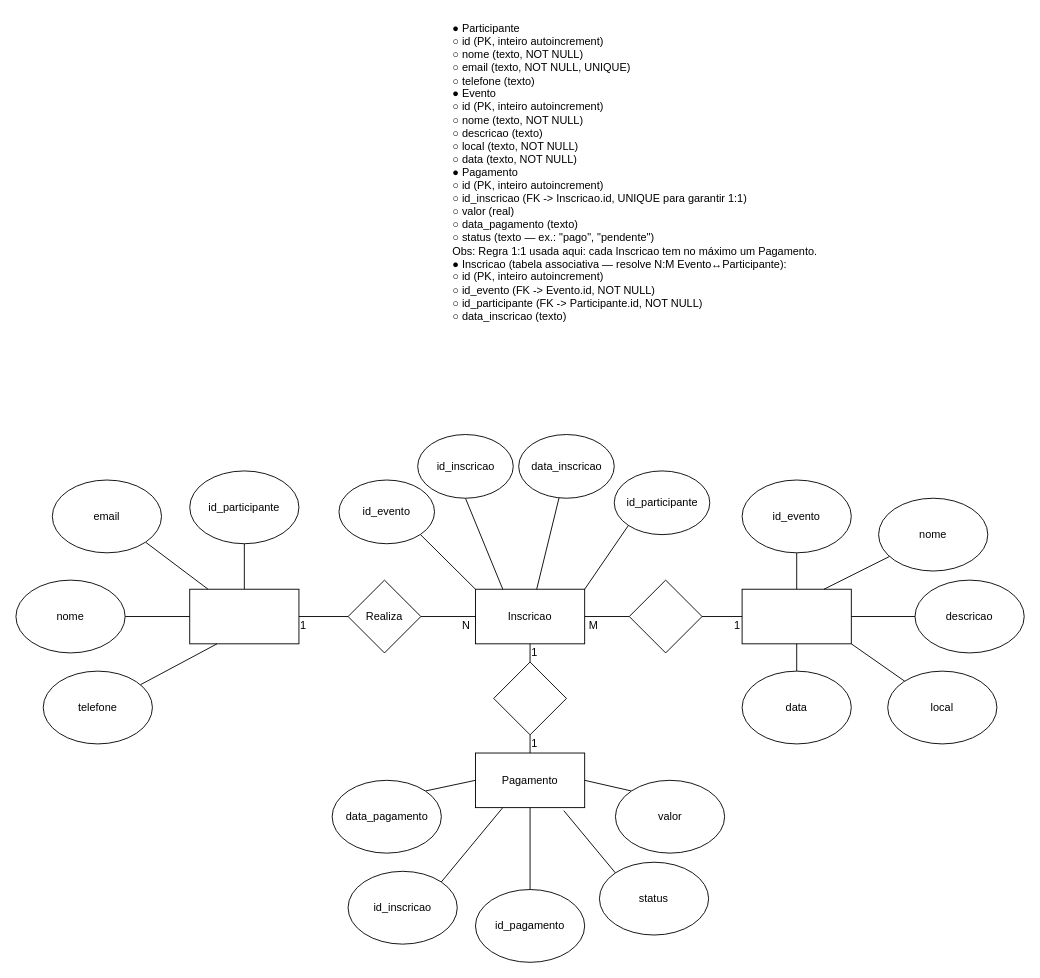
Image size: 1040x978. Some labels were removed from this diagram. Each missing label, with the centre of its shape:
Evento: the point at 796,616
Participante: the point at 244,616
Possui: the point at 665,616
Tem: the point at 529,698
